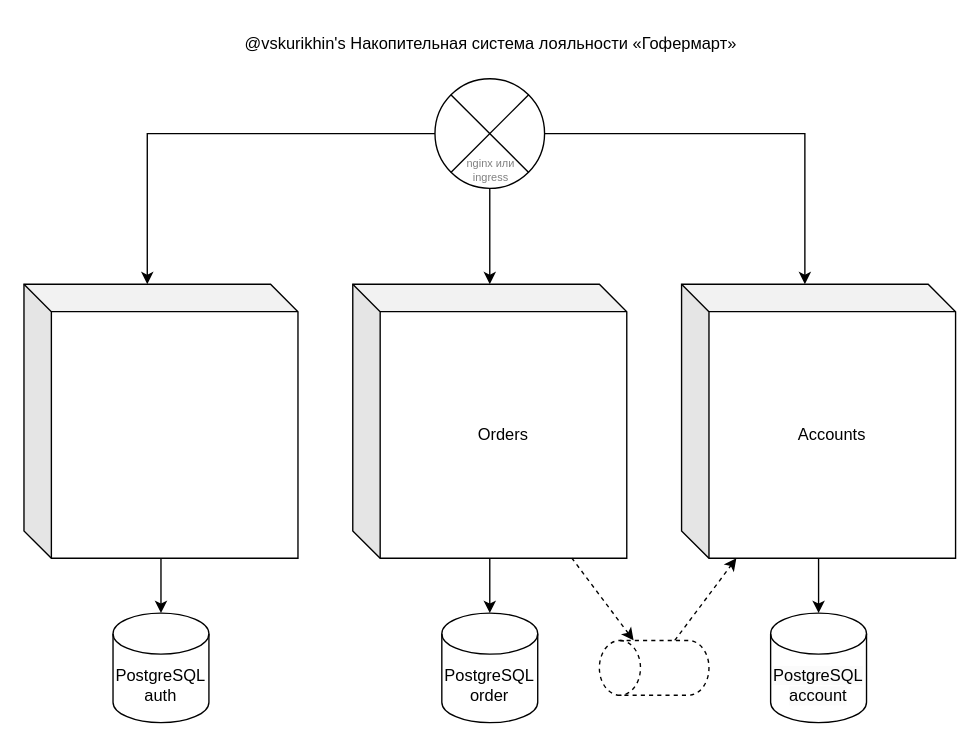
This 980x747 diagram has some shape labels left out. The shapes that lost their labels are listed below. From the top down, each one's box as (x1, y1, x2, y2) in pixels, then its label:
(434, 77, 545, 188): gateway
(23, 283, 298, 558): Auth
(598, 639, 709, 695): Message broker
